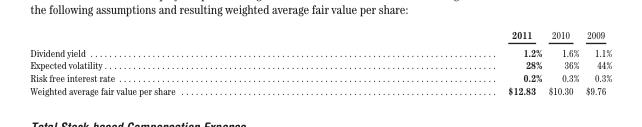table: (29, 28, 611, 95)
table column: (29, 28, 340, 95), (340, 28, 544, 95), (544, 28, 581, 95), (581, 28, 611, 95)
table column header: (29, 28, 611, 43)
table row: (29, 28, 611, 43), (29, 43, 611, 58), (29, 58, 611, 71), (29, 71, 611, 83), (29, 83, 611, 95)
